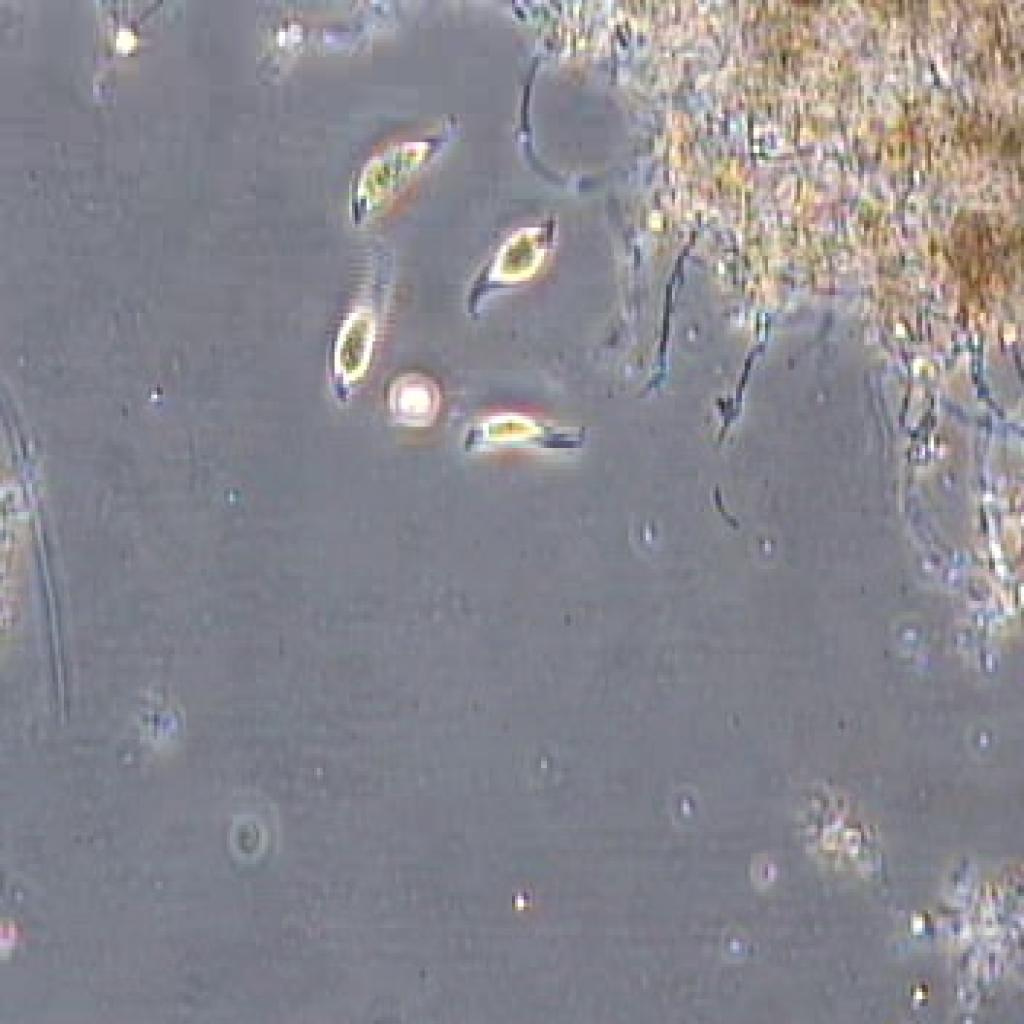Pristina: (450, 196, 574, 338), (336, 100, 470, 220), (462, 398, 611, 487), (328, 256, 392, 416)
